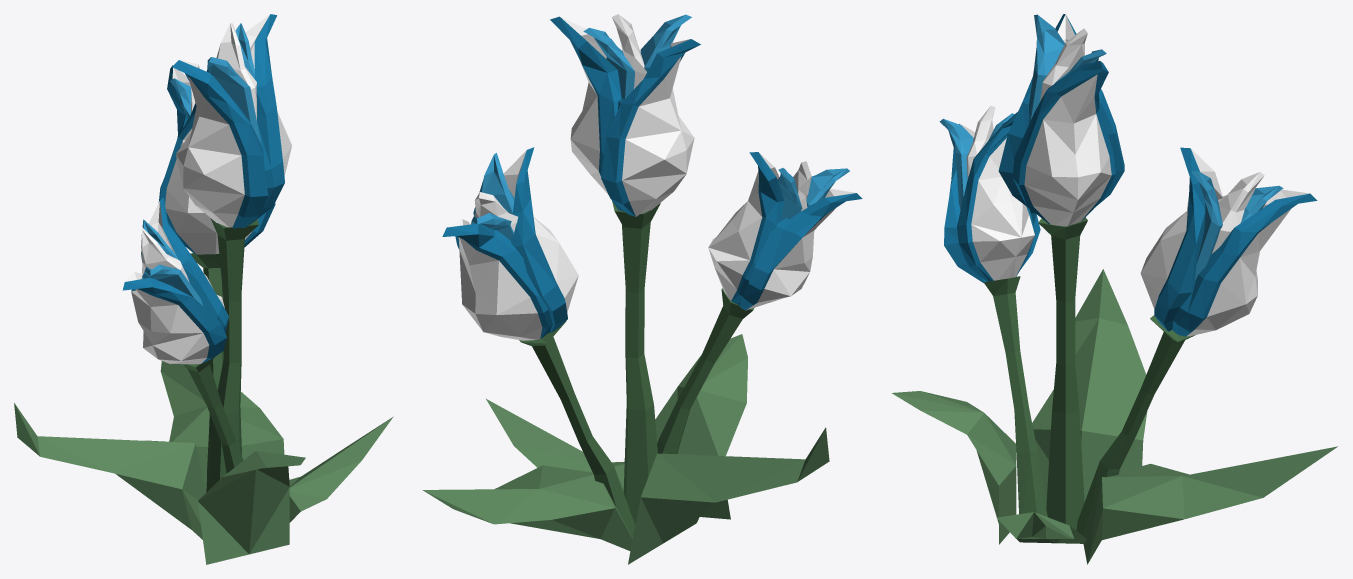
The model's file is flower_4.obj.
3 renders of one model, left to right at view 1: azimuth 30°, elevation 25°; view 2: azimuth 150°, elevation 25°; view 3: azimuth 270°, elevation 25°, orthographic. The views are drawn at different scales.
Visible parts, largest first — view 1: flower_4; view 2: flower_4; view 3: flower_4.
Part boxes in pixels (box(x1,y1,x2,y2)): flower_4: box(14, 14, 393, 564); flower_4: box(422, 14, 862, 564); flower_4: box(892, 14, 1337, 564).
Size of the model in its own units: 0.6512 by 0.876 by 0.6996.
